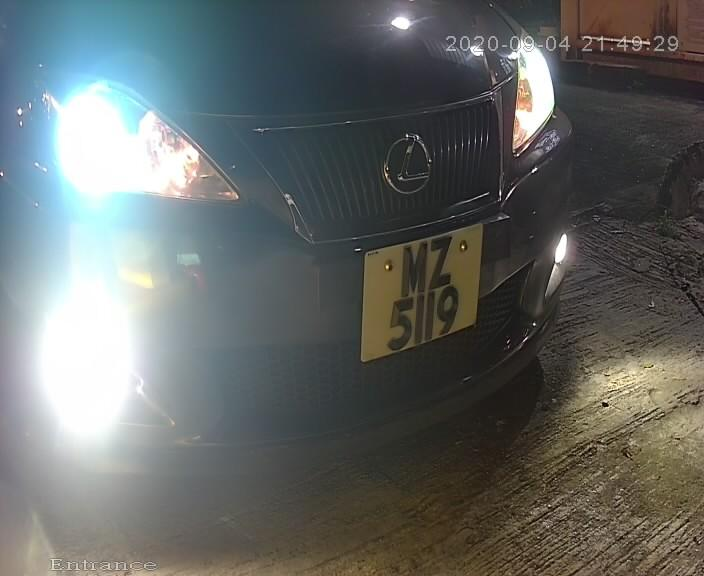License Plate: (356, 217, 488, 371)
